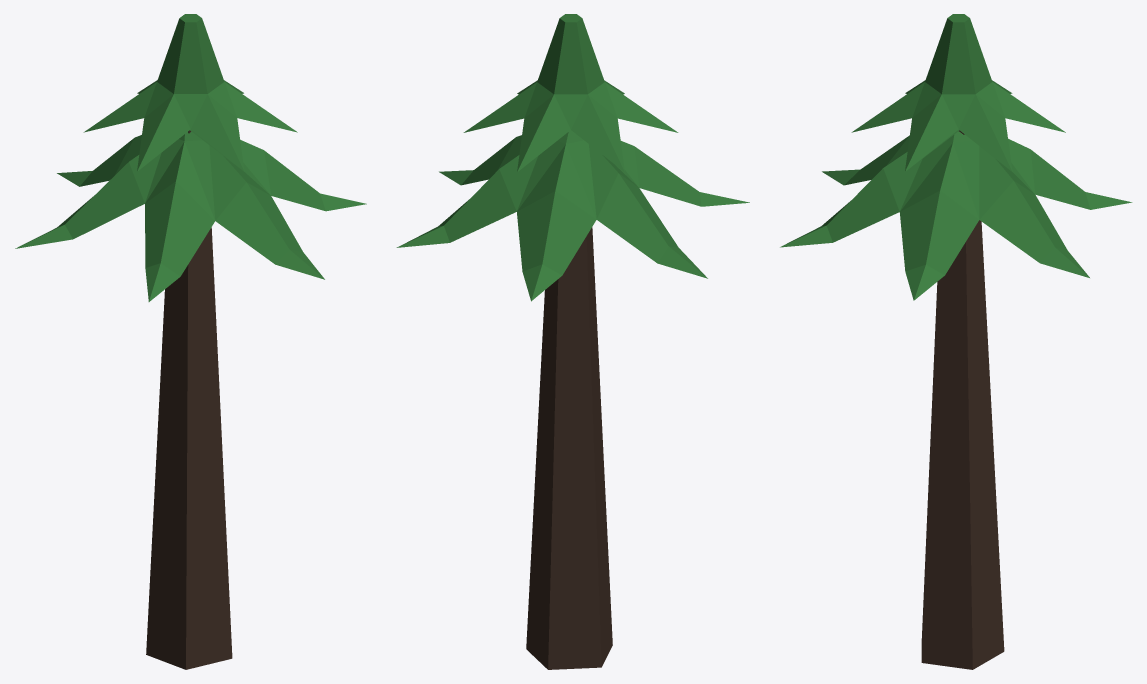
Rendered from pinetree_long.fbx.
3 views of the same model, side by side, from view 1: azimuth 30°, elevation 25°; view 2: azimuth 150°, elevation 25°; view 3: azimuth 270°, elevation 25° (orthographic).
Parts seen in each view (by area): view 1: pineTree_long; view 2: pineTree_long; view 3: pineTree_long.
Part boxes in pixels (bbox=[...]): pineTree_long: bbox=[15, 14, 366, 669]; pineTree_long: bbox=[396, 14, 749, 669]; pineTree_long: bbox=[780, 14, 1132, 669].
Bounding box in the file's own units: 641 × 1247 × 631.
